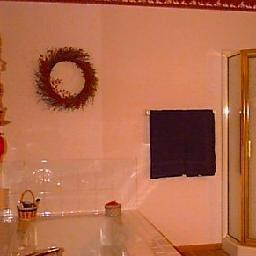Ducha: (221, 48, 253, 249)
